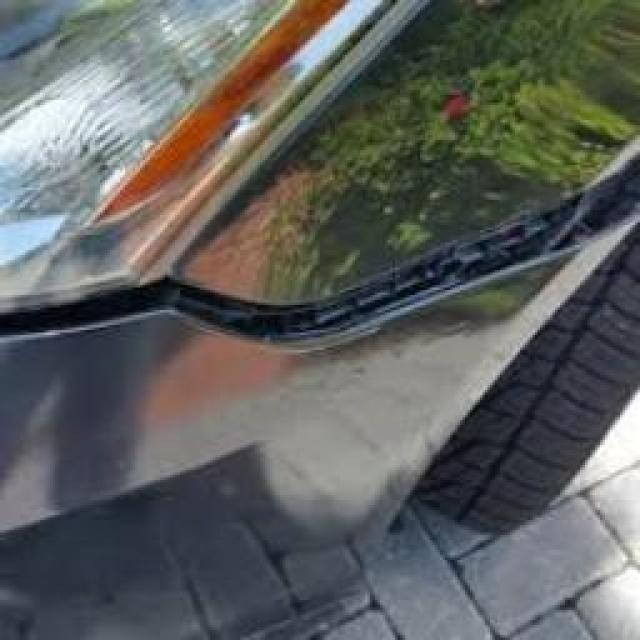Bumper: (0, 128, 638, 376)
